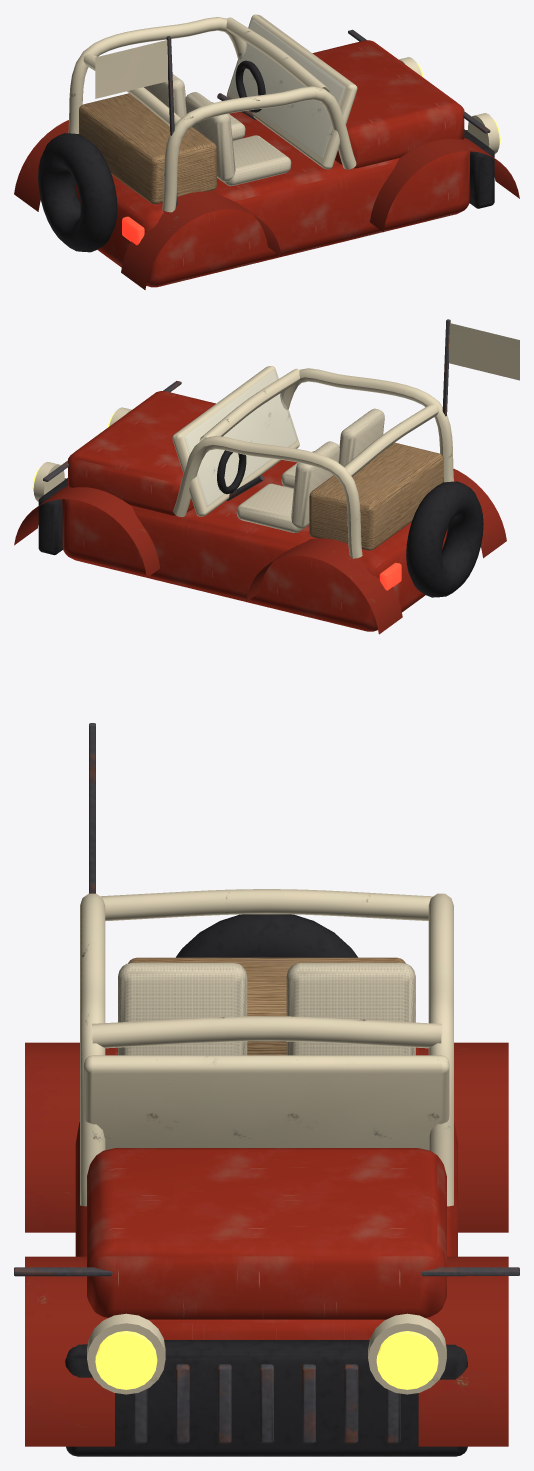
The model's file is jeep_body.glb.
3 renders of one model, top to bottom at view 1: azimuth 30°, elevation 25°; view 2: azimuth 150°, elevation 25°; view 3: azimuth 270°, elevation 25°, orthographic. The views are drawn at different scales.
Parts seen in each view (by area): view 1: jeep_body_Paint_Red, jeep_body_Paint_Cream, jeep_body_Rubber, jeep_body_Wood_Light, jeep_body_Paint_Red_Dark, jeep_body_Glass, jeep_body_Cloth, jeep_body_Metal, jeep_body_Light_Red; view 2: jeep_body_Paint_Red, jeep_body_Paint_Cream, jeep_body_Rubber, jeep_body_Wood_Light, jeep_body_Paint_Red_Dark, jeep_body_Cloth, jeep_body_Glass, jeep_body_Metal, jeep_body_Light_Red; view 3: jeep_body_Paint_Red, jeep_body_Paint_Cream, jeep_body_Paint_Red_Dark, jeep_body_Rubber, jeep_body_Cloth, jeep_body_Metal, jeep_body_Glow_Warm, jeep_body_Wood_Light.
Part boxes in pixels (x1,y1,x2,y2): jeep_body_Paint_Red: (75, 40, 470, 287); jeep_body_Paint_Cream: (68, 14, 499, 212); jeep_body_Rubber: (38, 60, 494, 252); jeep_body_Wood_Light: (79, 93, 216, 203); jeep_body_Paint_Red_Dark: (14, 120, 519, 289); jeep_body_Glass: (229, 20, 344, 158); jeep_body_Cloth: (144, 74, 291, 186); jeep_body_Metal: (166, 29, 490, 206); jeep_body_Light_Red: (122, 216, 144, 245); jeep_body_Paint_Red: (62, 391, 447, 631); jeep_body_Paint_Cream: (33, 323, 519, 558); jeep_body_Rubber: (38, 450, 483, 597); jeep_body_Wood_Light: (309, 442, 443, 550); jeep_body_Paint_Red_Dark: (14, 468, 506, 634); jeep_body_Cloth: (236, 408, 384, 532); jeep_body_Glass: (184, 371, 296, 506); jeep_body_Metal: (43, 319, 450, 500); jeep_body_Light_Red: (379, 562, 401, 590); jeep_body_Paint_Red: (75, 1047, 457, 1339); jeep_body_Paint_Cream: (80, 889, 453, 1394); jeep_body_Paint_Red_Dark: (25, 1042, 508, 1446); jeep_body_Rubber: (65, 914, 467, 1456); jeep_body_Cloth: (118, 962, 415, 1055); jeep_body_Metal: (14, 723, 519, 1443); jeep_body_Glow_Warm: (95, 1331, 438, 1389); jeep_body_Wood_Light: (128, 957, 405, 1055).
Bounding box in the file's own units: 3.07 × 1.81 × 1.8.
Materials: 10 (7 with a texture image).
